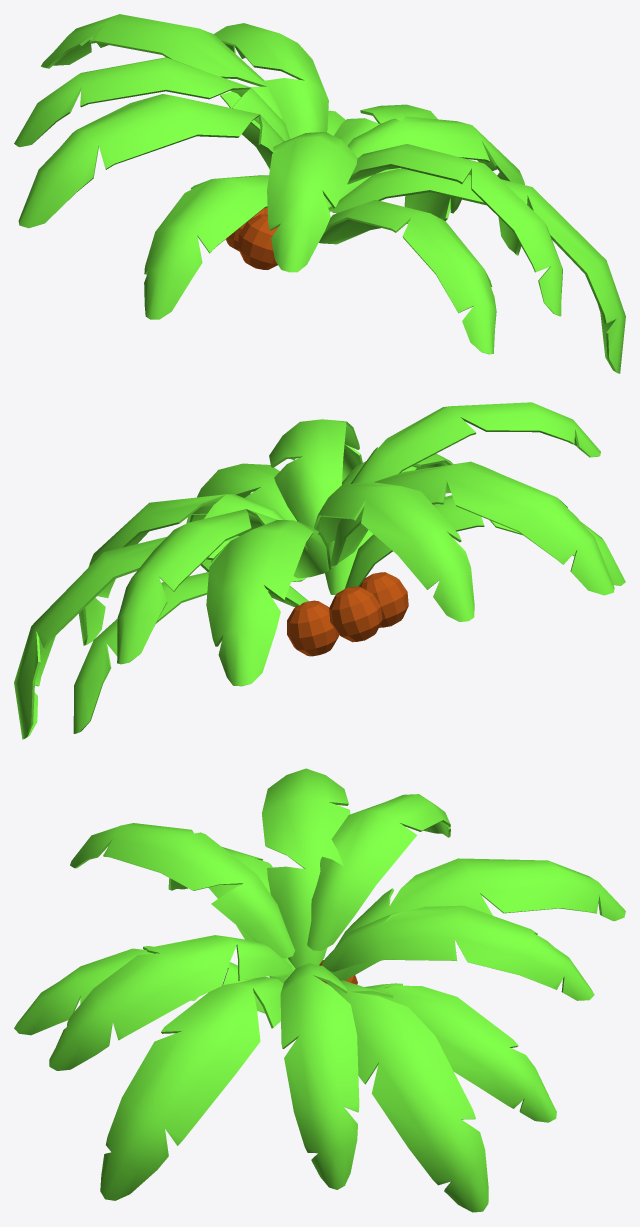
File: palm_foliage_01.fbx
The picture shows the model from 3 angles, top to bottom: view 1: azimuth 30°, elevation 25°; view 2: azimuth 150°, elevation 25°; view 3: azimuth 270°, elevation 25°; orthographic projection. The views are drawn at different scales.
Visible parts, largest first — view 1: Sphere001; view 2: Sphere001; view 3: Sphere001.
Boxes of the visible parts, left/top/right/bottom form: Sphere001: left=14, top=14, right=625, bottom=373; Sphere001: left=14, top=402, right=625, bottom=739; Sphere001: left=14, top=768, right=625, bottom=1212.
Size of the model in its own units: 177 by 93.64 by 196.
